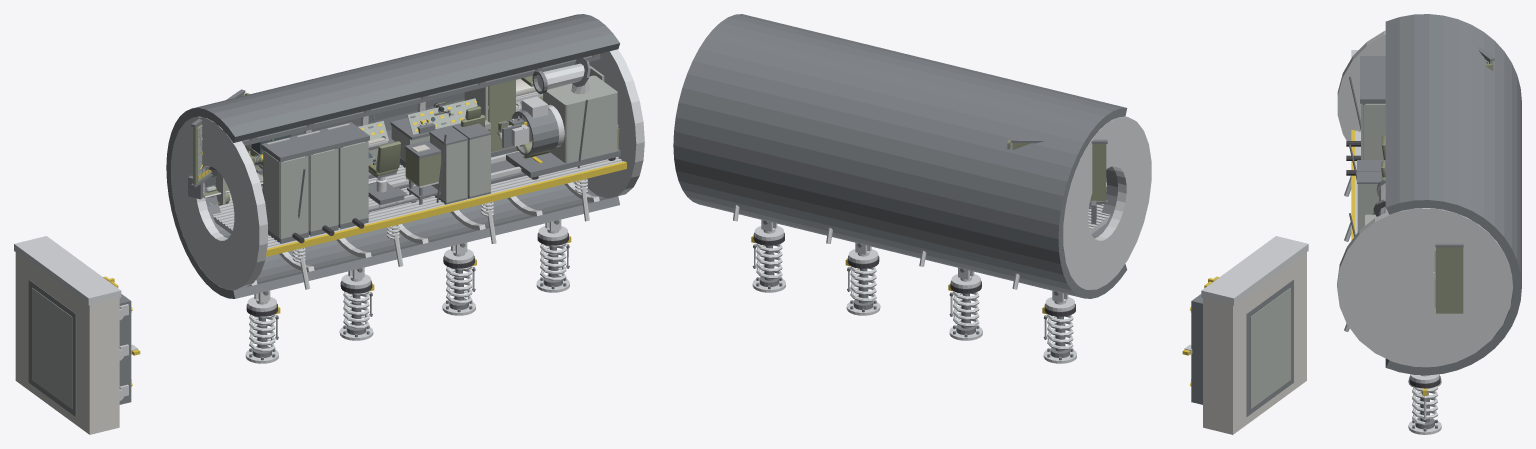
The model's file is cold-war-missile-silo-and-command-bunker-launch-contro-e3abd4d8__15715.glb.
3 renders of one model, left to right at view 1: azimuth 30°, elevation 25°; view 2: azimuth 150°, elevation 25°; view 3: azimuth 270°, elevation 25°, orthographic.
Parts seen in each view (by area): view 1: 004-launch-control-capsule-cutaway/0, 004-launch-control-capsule-cutaway/1, 005-capsule-blast-door/0, 013-capsule-air-handling-unit/2, 005-capsule-blast-door/2, 005-capsule-blast-door/4, 010-communications-rack/1, 013-capsule-air-handling-unit/0, 004-launch-control-capsule-cutaway/3, 011-communications-rack/1, 012-communications-rack/1, 013-capsule-air-handling-unit/3 (+17 smaller); view 2: 004-launch-control-capsule-cutaway/0, 004-launch-control-capsule-cutaway/1, 005-capsule-blast-door/0, 005-capsule-blast-door/2, 005-capsule-blast-door/4, 001-shock-isolator-strut/0, 000-shock-isolator-strut/0, 002-shock-isolator-strut/0, 003-shock-isolator-strut/0, 005-capsule-blast-door/1, 005-capsule-blast-door/blast-door, 020-wall-map-board/0; view 3: 004-launch-control-capsule-cutaway/0, 004-launch-control-capsule-cutaway/1, 015-bunk-alcove/4, 012-communications-rack/1, 003-shock-isolator-strut/0, 017-filing-cabinet/1, 012-communications-rack/0, 010-communications-rack/0, 011-communications-rack/0, 003-shock-isolator-strut/1, 004-launch-control-capsule-cutaway/3, 017-filing-cabinet/0 (+3 smaller).
Part boxes in pixels (x1,y1,x2,y2): 004-launch-control-capsule-cutaway/0: (166, 14, 619, 298); 004-launch-control-capsule-cutaway/1: (171, 49, 644, 289); 005-capsule-blast-door/0: (15, 252, 119, 434); 013-capsule-air-handling-unit/2: (543, 75, 617, 163); 005-capsule-blast-door/2: (32, 288, 72, 408); 005-capsule-blast-door/4: (14, 236, 124, 400); 010-communications-rack/1: (264, 151, 308, 238); 013-capsule-air-handling-unit/0: (502, 57, 620, 177); 004-launch-control-capsule-cutaway/3: (266, 161, 626, 256); 011-communications-rack/1: (308, 148, 338, 231); 012-communications-rack/1: (338, 141, 368, 224); 013-capsule-air-handling-unit/3: (507, 63, 589, 147); 004-launch-control-capsule-cutaway/0: (673, 14, 1127, 298); 004-launch-control-capsule-cutaway/1: (733, 116, 1151, 289); 005-capsule-blast-door/0: (1203, 252, 1306, 434); 005-capsule-blast-door/2: (1250, 287, 1290, 409); 005-capsule-blast-door/4: (1201, 236, 1308, 305); 001-shock-isolator-strut/0: (949, 268, 982, 340); 000-shock-isolator-strut/0: (1043, 291, 1076, 363); 002-shock-isolator-strut/0: (846, 242, 880, 315); 003-shock-isolator-strut/0: (752, 220, 785, 292); 005-capsule-blast-door/1: (1246, 279, 1293, 416); 005-capsule-blast-door/blast-door: (1191, 294, 1202, 404); 020-wall-map-board/0: (1007, 139, 1106, 201); 004-launch-control-capsule-cutaway/0: (1349, 14, 1521, 375); 004-launch-control-capsule-cutaway/1: (1337, 30, 1512, 366); 015-bunk-alcove/4: (1436, 247, 1463, 313); 012-communications-rack/1: (1361, 103, 1385, 159); 003-shock-isolator-strut/0: (1408, 374, 1441, 434); 017-filing-cabinet/1: (1357, 184, 1380, 231); 012-communications-rack/0: (1360, 85, 1385, 159); 010-communications-rack/0: (1360, 56, 1385, 70); 011-communications-rack/0: (1360, 70, 1385, 84); 003-shock-isolator-strut/1: (1412, 388, 1437, 431); 004-launch-control-capsule-cutaway/3: (1351, 130, 1354, 240); 017-filing-cabinet/0: (1357, 171, 1381, 183).
Size of the model in its own units: 12.9 by 5.66 by 3.78.
